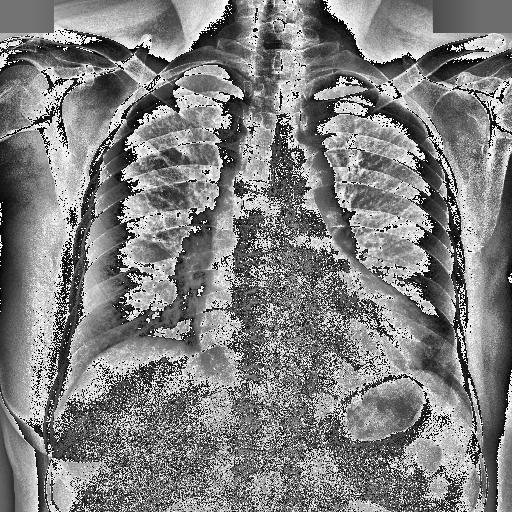0- Aortic enlargement: (288, 142, 342, 220), (273, 138, 339, 198)
3- Cardiomegaly: (192, 302, 434, 392), (190, 286, 434, 373), (190, 307, 440, 367)
